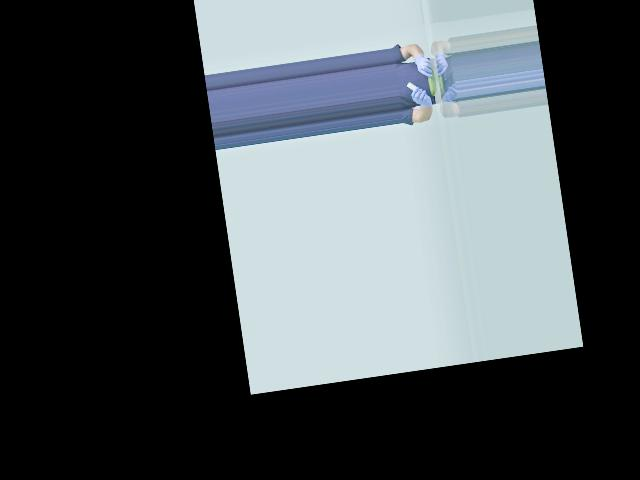cucumber: (426, 68, 437, 96)
